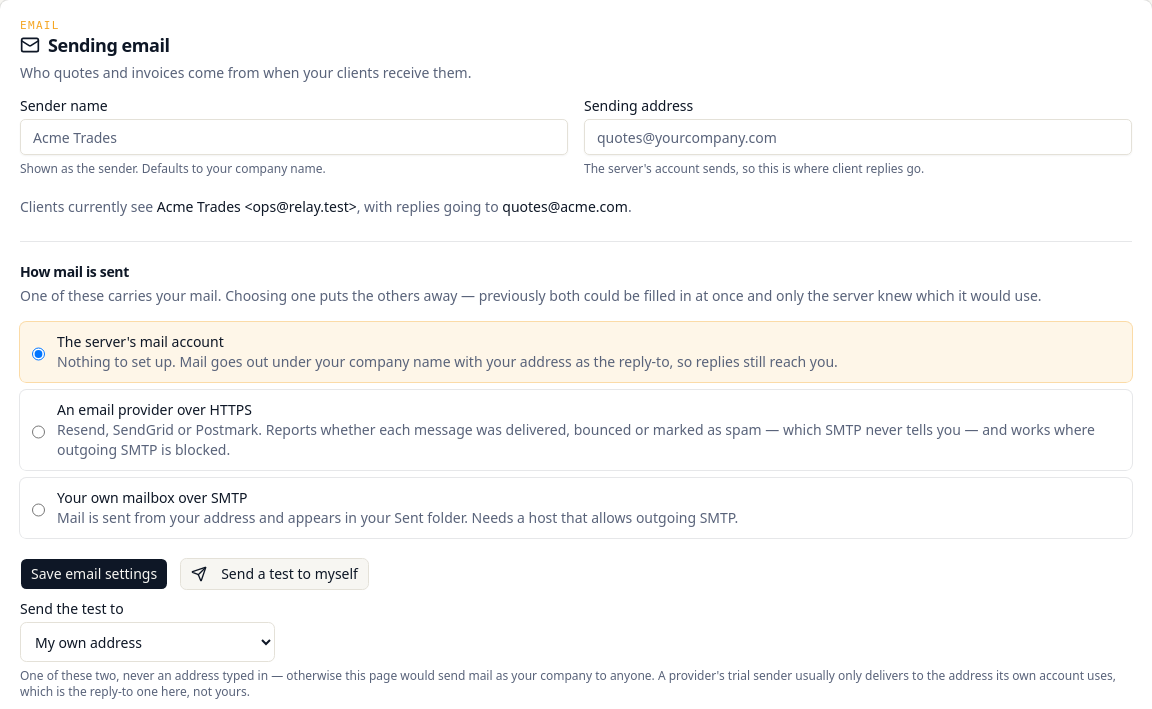
Scenario: the test send › does not claim a message arrived, only that it was accepted
Click the button "Send a test to myself": coordinates (275, 574) [180, 558, 369, 590]
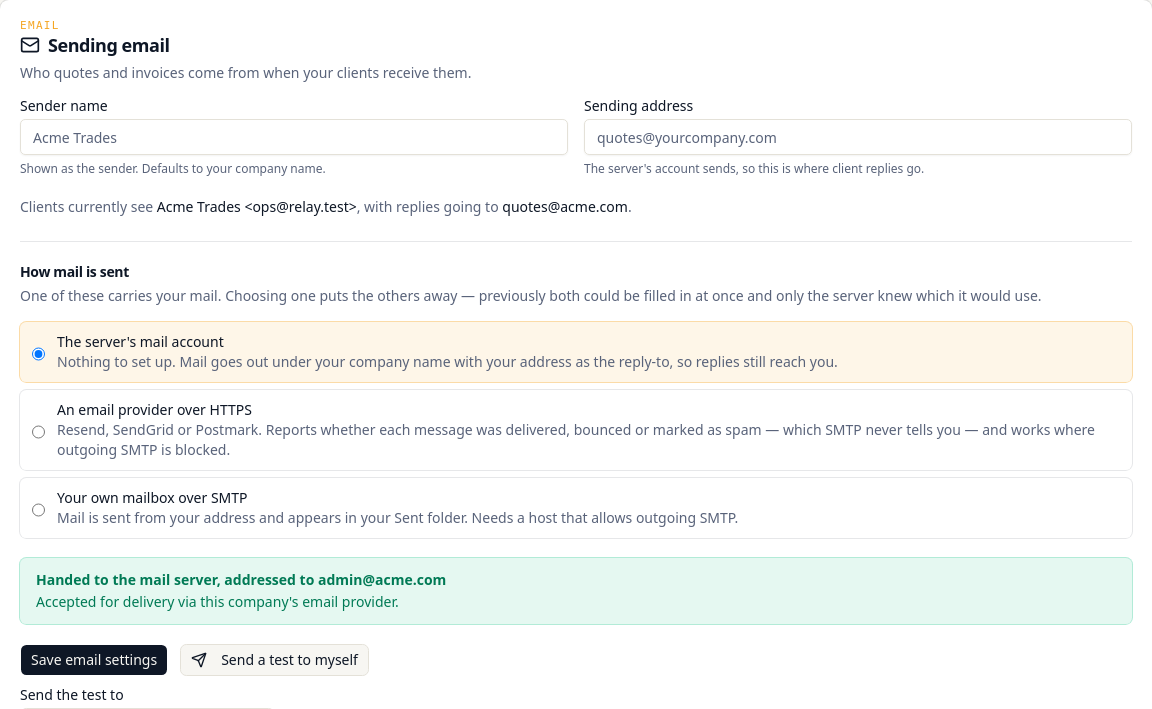
Check: the text "Handed to the mail server, addressed to admin@acme.com" is shown, box [36, 570, 446, 589]
